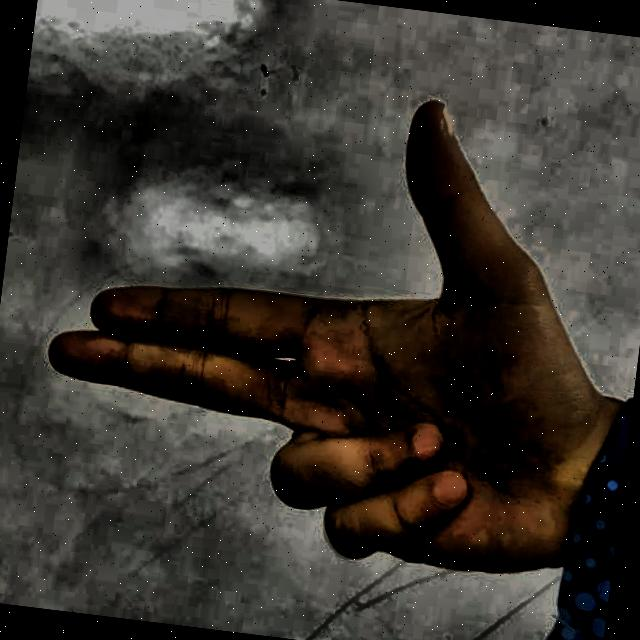Jha: (6, 37, 629, 640)
